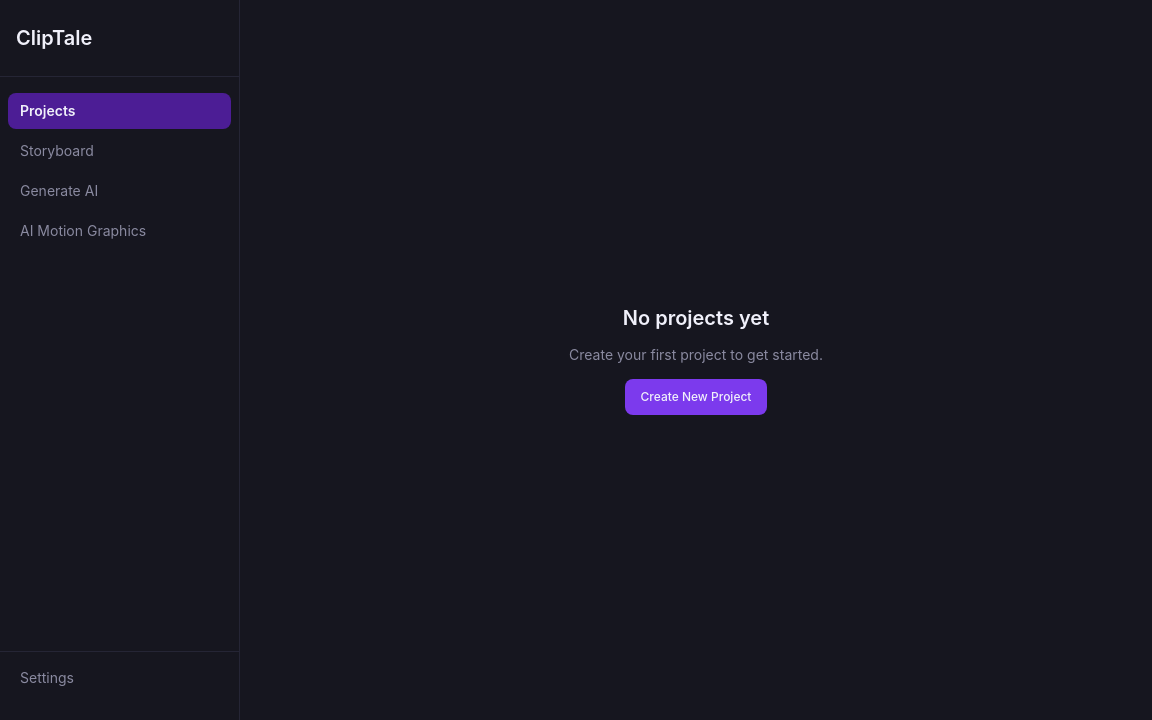
it: HomePage › should swap to Storyboard panel when Storyboard tab is clicked
Click the tab "Storyboard". click: coordinates (120, 151)
box: top-left (8, 133), bottom-right (231, 169)
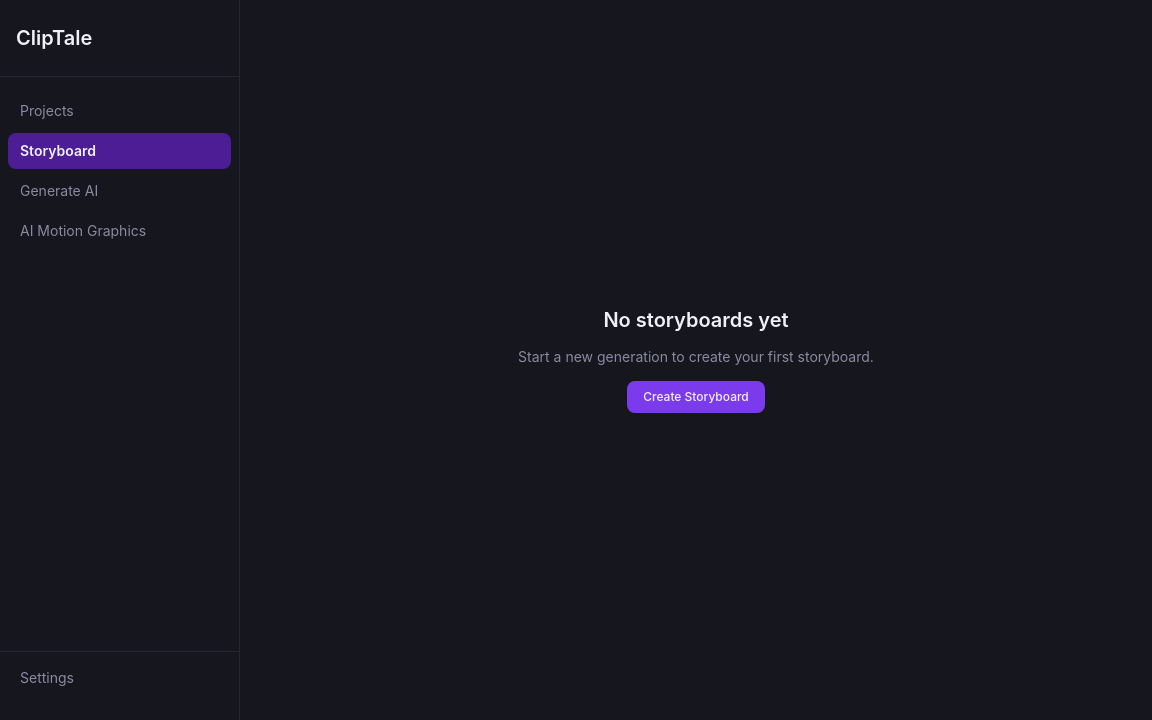
Expected: the text "No storyboards yet" is shown, top-left (603, 308), bottom-right (788, 332)
